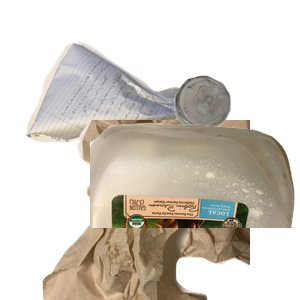glass: (172, 73, 300, 195)
paper: (23, 40, 223, 180)
plastic: (90, 120, 300, 300)
trash: (40, 120, 280, 300)
